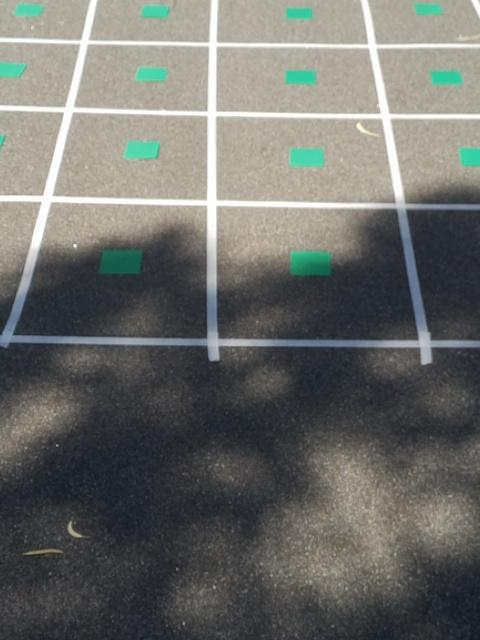weed: (288, 247, 333, 278), (99, 248, 143, 277), (426, 66, 467, 89), (120, 139, 164, 160), (281, 66, 320, 87), (288, 146, 323, 169), (278, 4, 318, 21), (12, 0, 44, 20), (407, 0, 447, 16), (459, 143, 480, 172), (137, 63, 167, 83), (142, 2, 170, 22), (0, 62, 33, 78)
